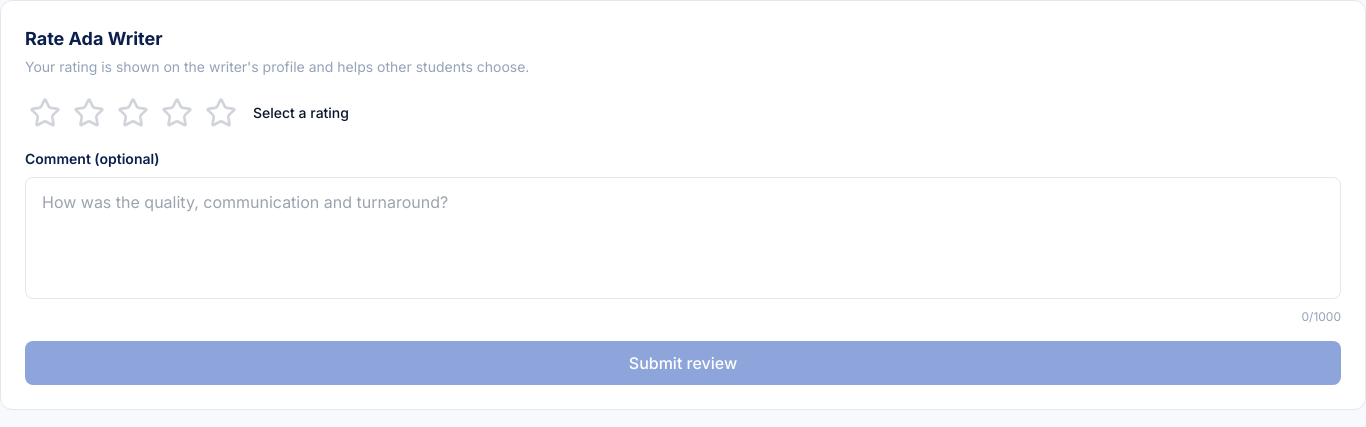
Test: ReviewForm › posts the rating and comment, then reports the saved review
Click the button named "5 stars" at (221, 113), box 201,93 -> 241,133
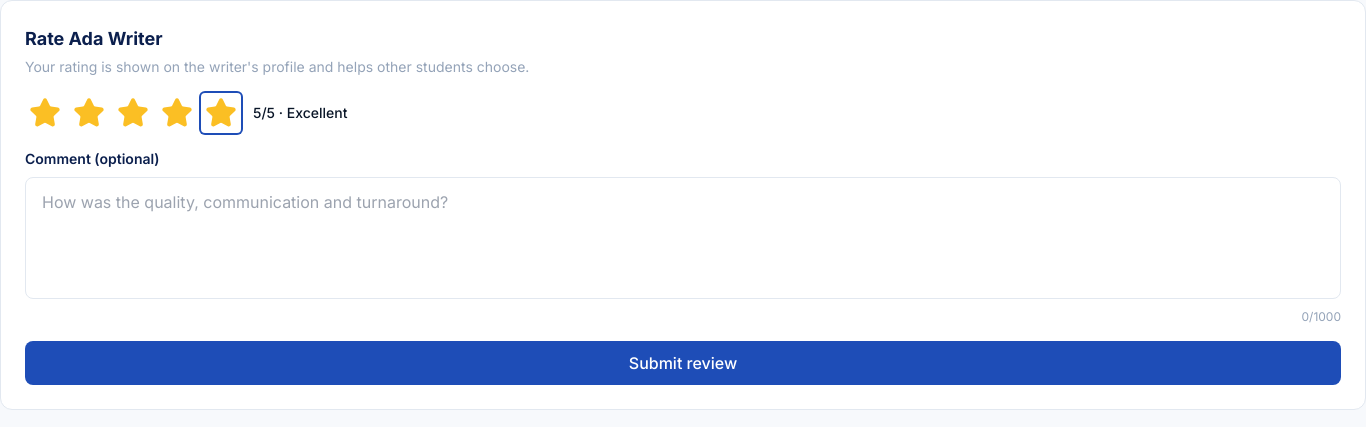
Type "Great work, delivered early." into the text box labelled "Comment (optional)" at (683, 238), box 25,177 -> 1341,299
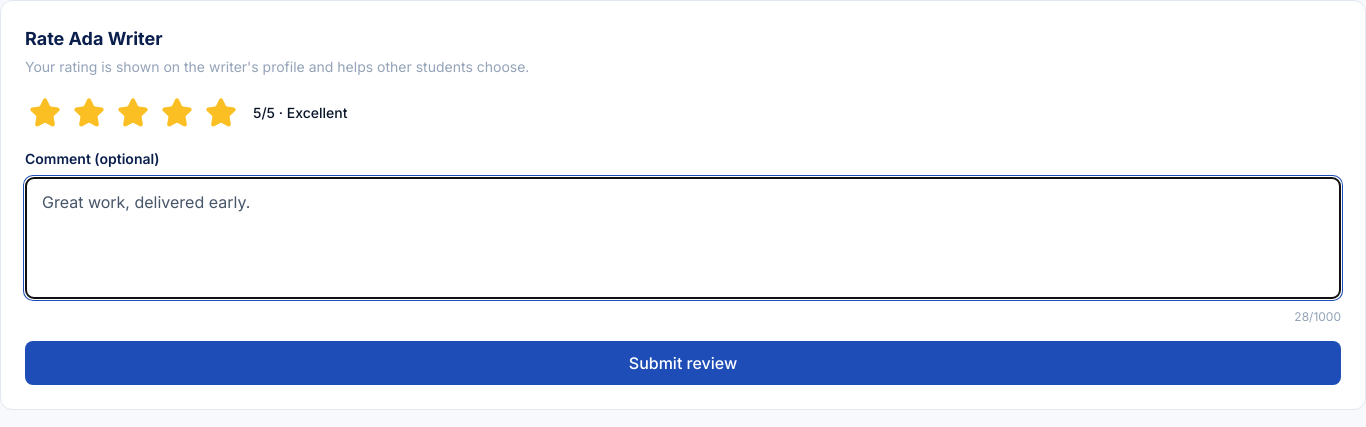
Click the button "Submit review" at (683, 363), box 25,341 -> 1341,385
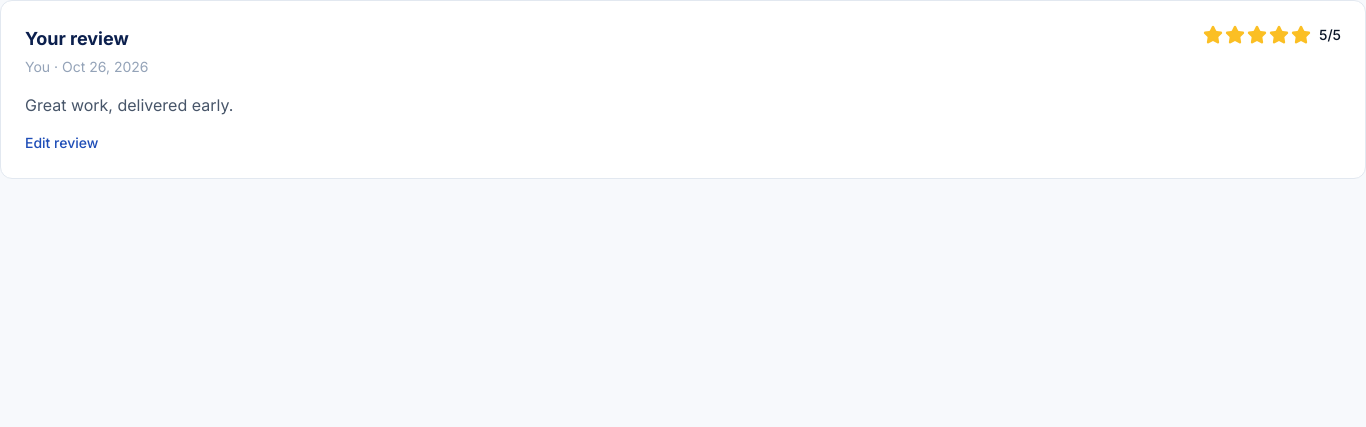
Expected: the heading "Your review" is shown, 25,28 -> 129,49
